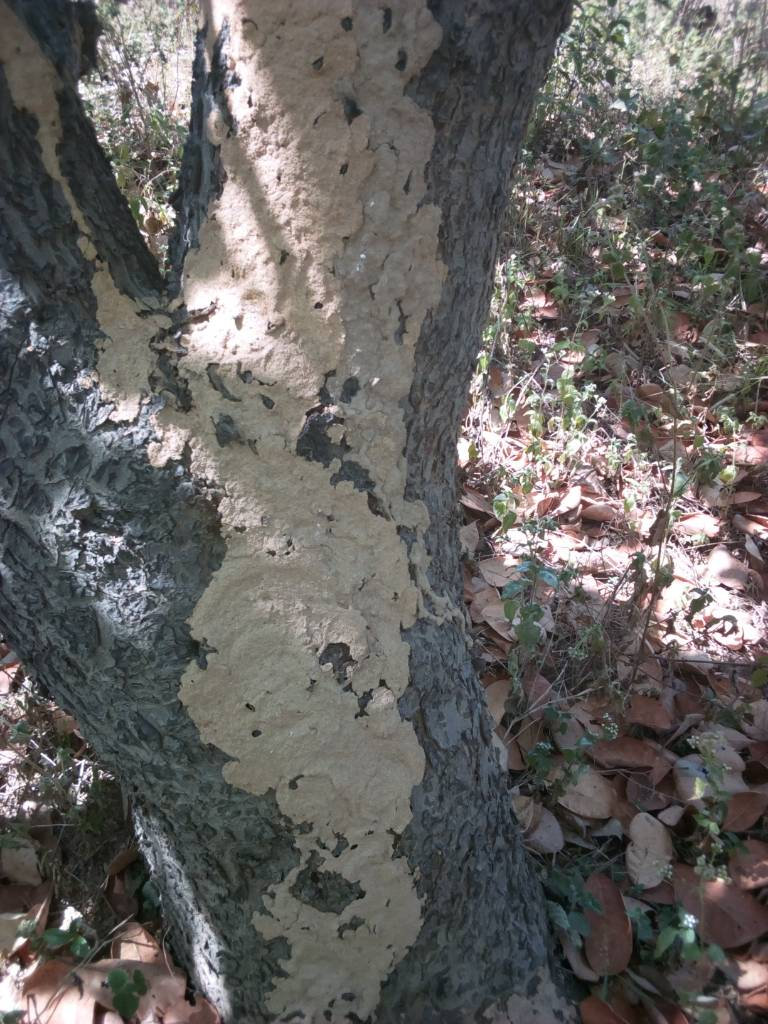Termites: (188, 263, 447, 1013), (207, 2, 441, 263)
